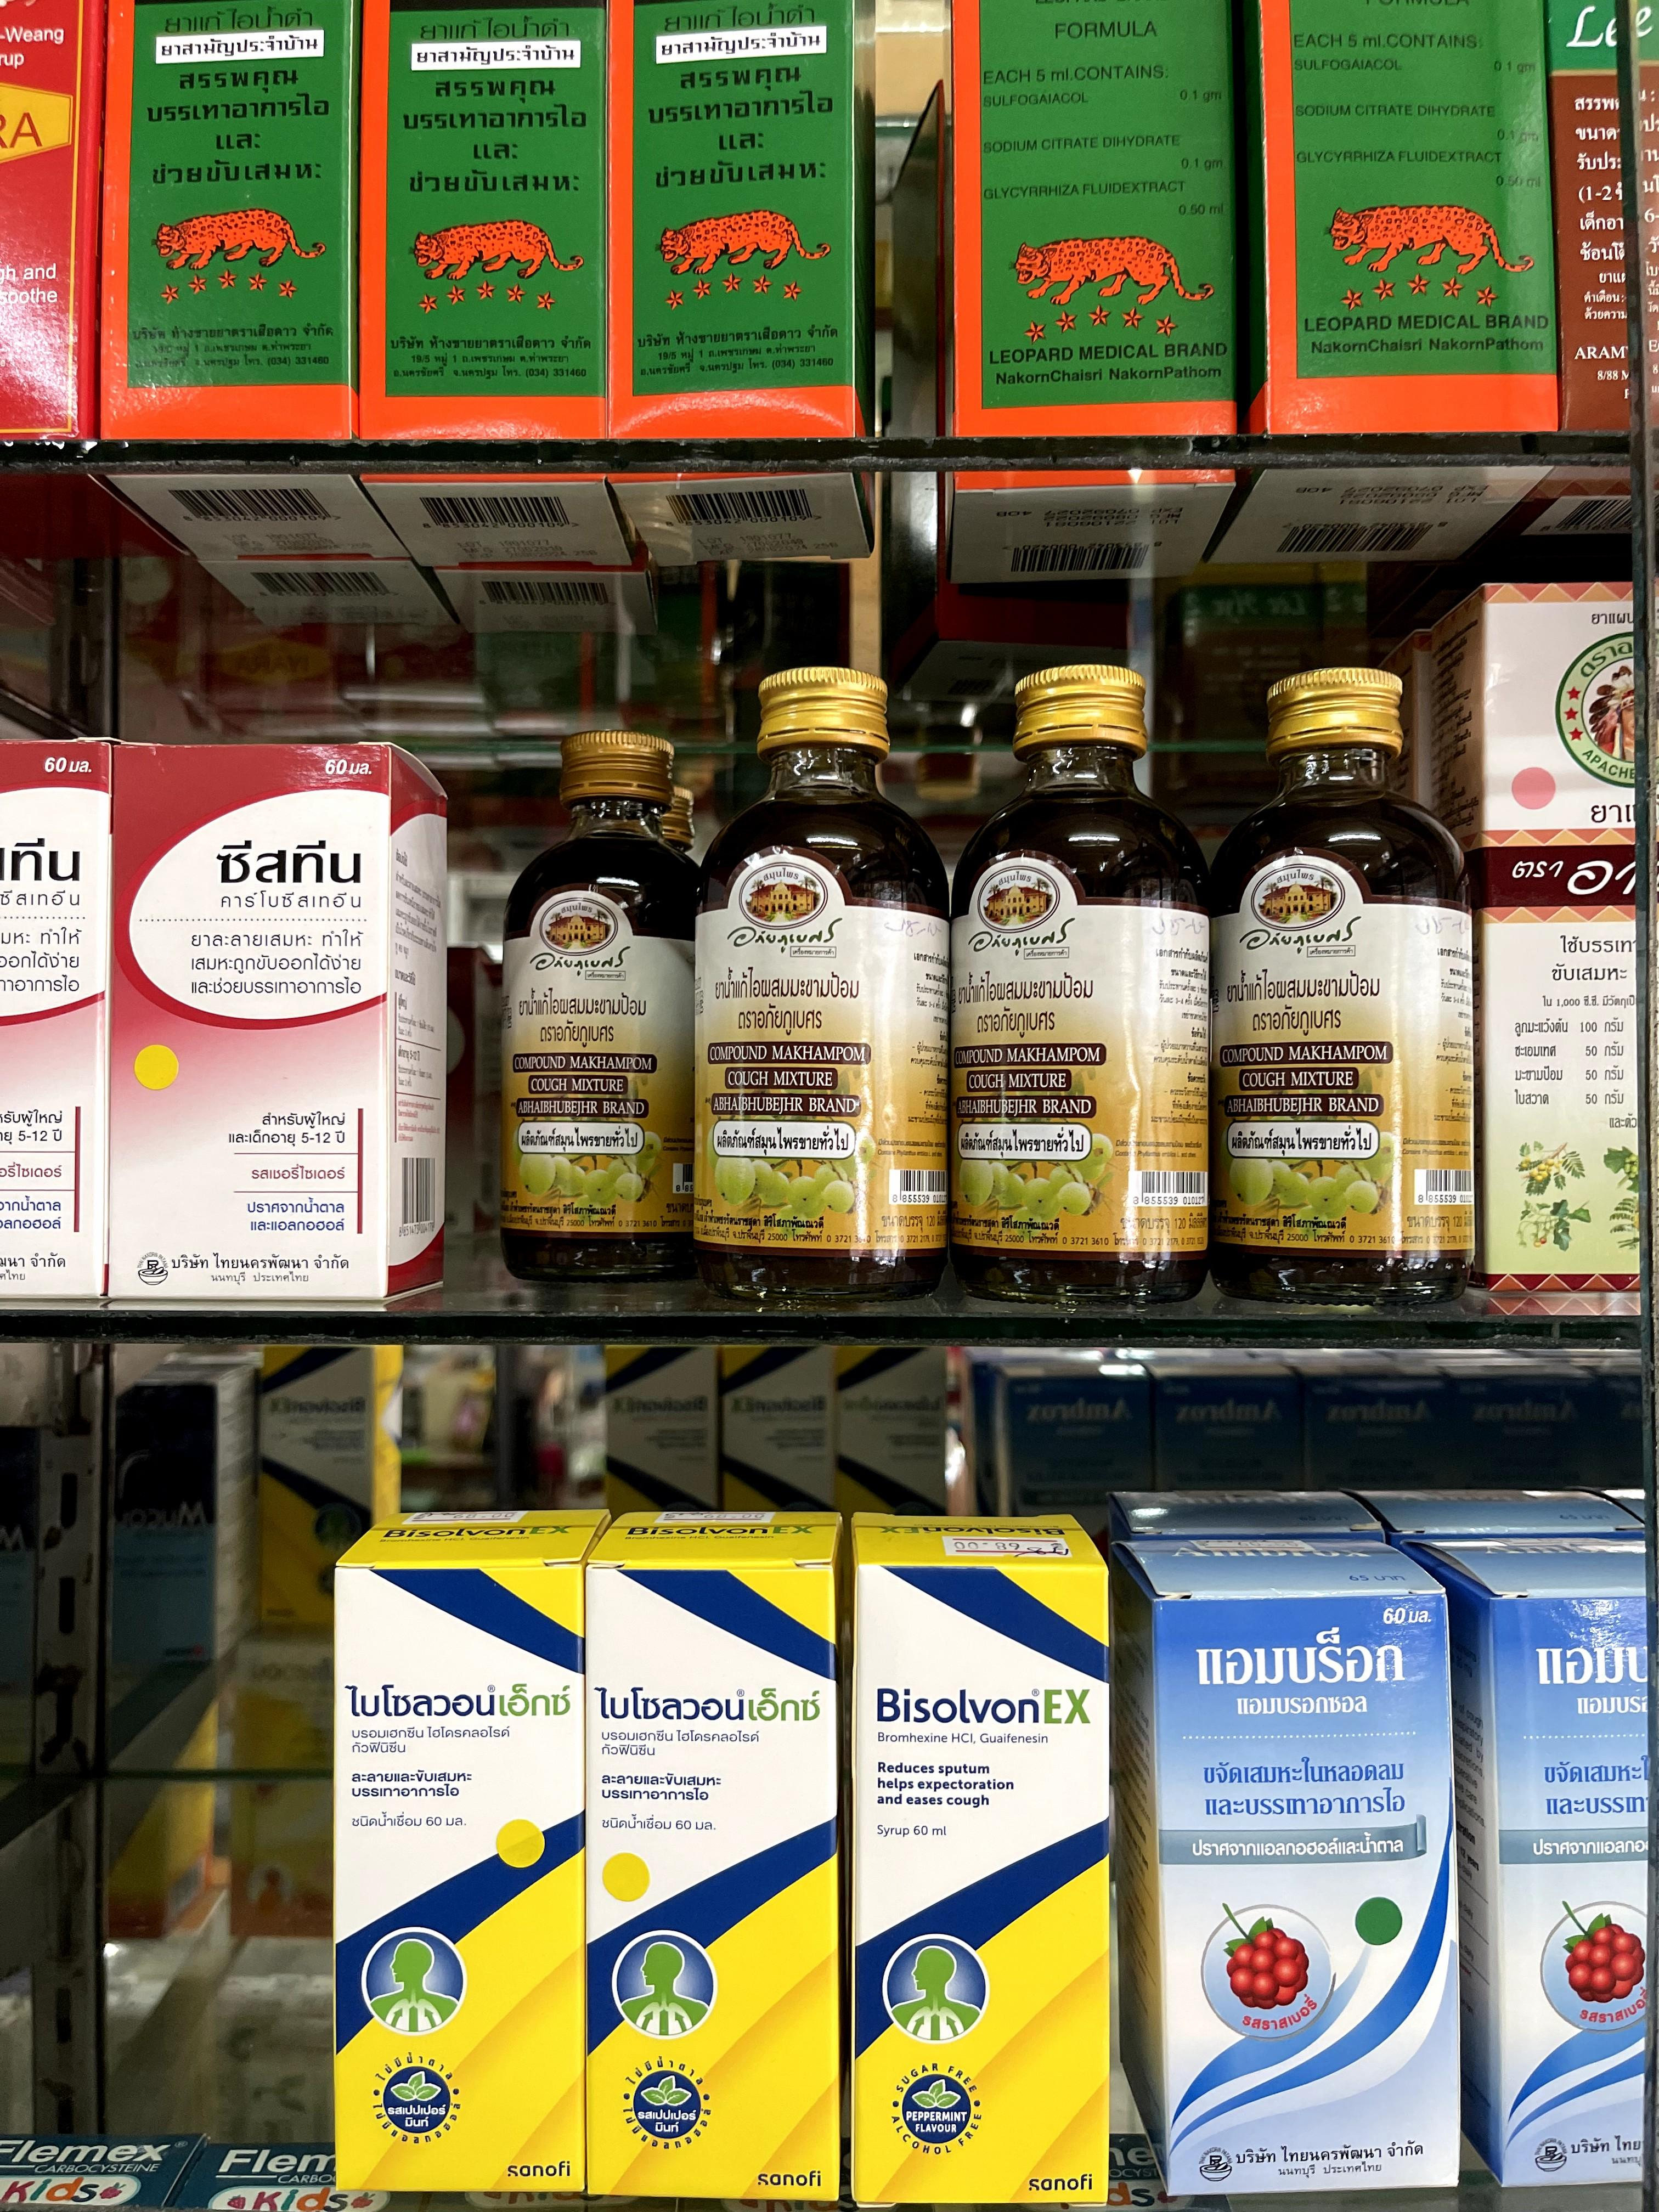Cisteine: (129, 738, 444, 1306), (0, 732, 119, 1308)
Ma-Kham-Pom_Bottle: (955, 653, 1215, 1308), (699, 672, 957, 1289), (1223, 662, 1471, 1303), (497, 732, 702, 1280)
